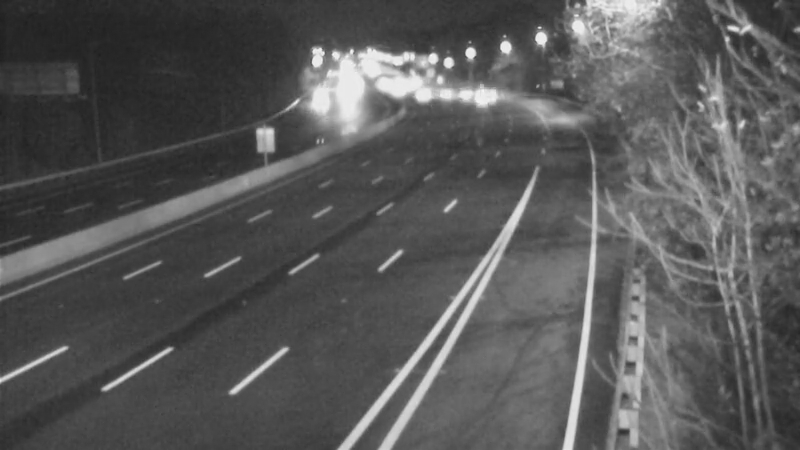vehicle: (436, 65, 486, 115), (420, 72, 470, 122), (461, 64, 511, 114)
